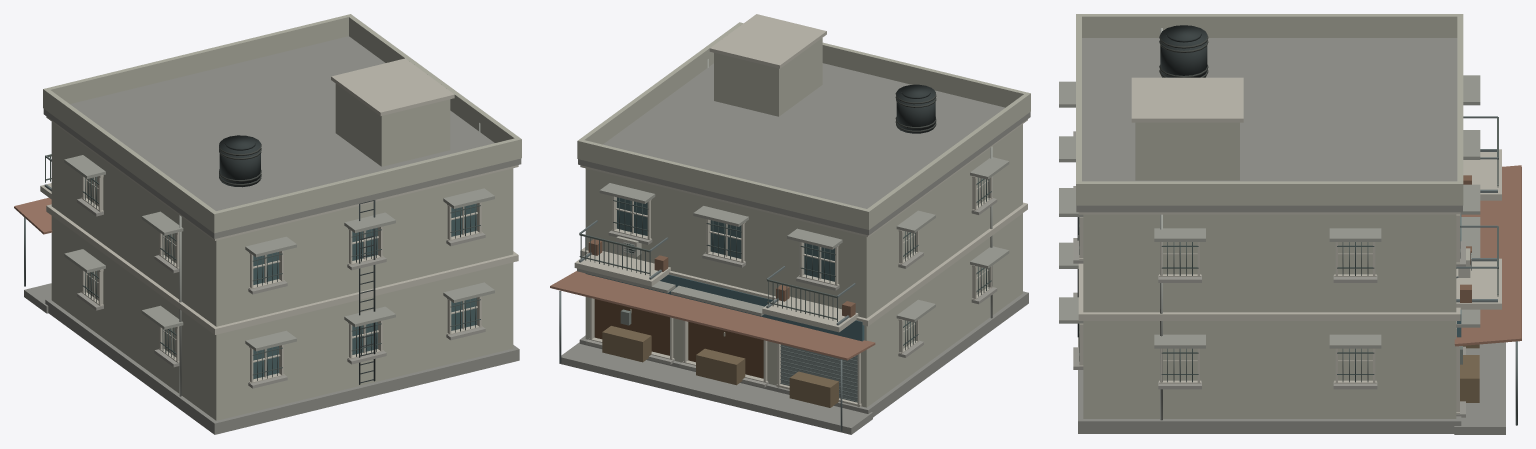
File: shop_house.glb
The picture shows the model from 3 angles, left to right: view 1: azimuth 30°, elevation 25°; view 2: azimuth 150°, elevation 25°; view 3: azimuth 270°, elevation 25°; orthographic projection. The views are drawn at different scales.
Visible parts, largest first — view 1: shop_house; view 2: shop_house; view 3: shop_house.
Part boxes in pixels (<box>): shop_house: <box>14,14,521,434</box>; shop_house: <box>550,14,1030,434</box>; shop_house: <box>1059,14,1521,434</box>.
Bounding box in the file's own units: 11.73 × 8.66 × 12.4.
